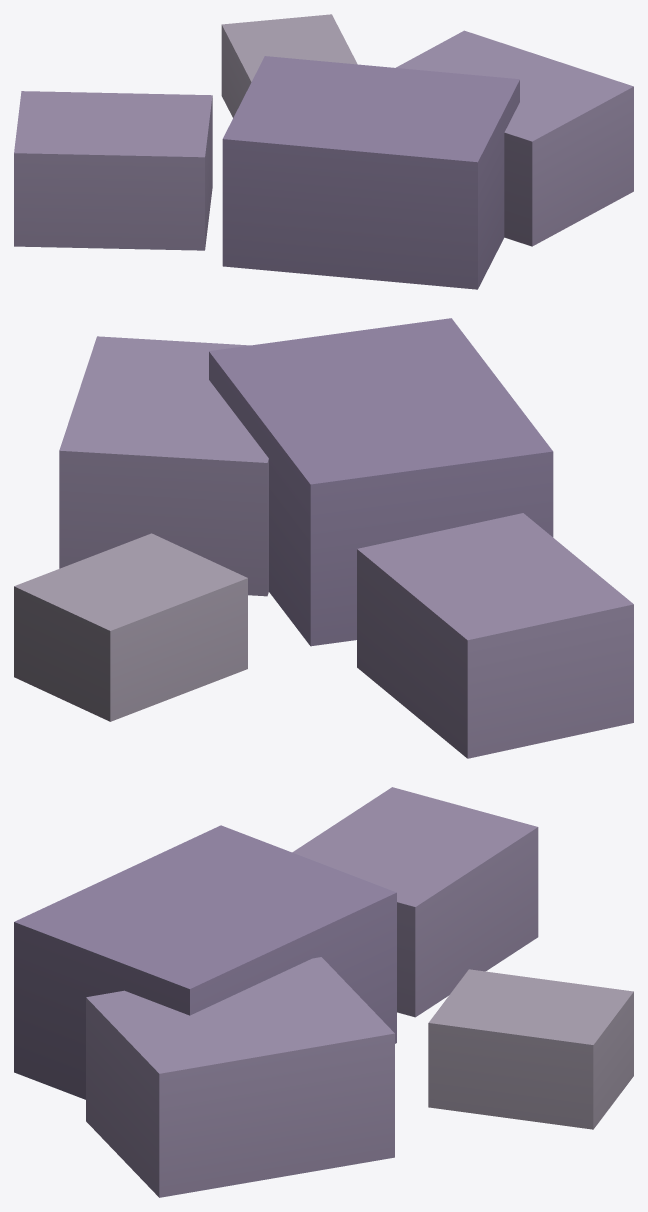
The model's file is pebbles.glb.
3 views of the same model, one above another, from view 1: azimuth 30°, elevation 25°; view 2: azimuth 150°, elevation 25°; view 3: azimuth 270°, elevation 25° (orthographic). The views are drawn at different scales.
Visible parts, largest first — view 1: pebbles_body; view 2: pebbles_body; view 3: pebbles_body.
Boxes of the visible parts, box(x1,y1,x2,y2) form: pebbles_body: box(14, 14, 633, 289); pebbles_body: box(14, 318, 633, 758); pebbles_body: box(14, 787, 633, 1197).
Size of the model in its own units: 0.3325 by 0.0776 by 0.2899.
